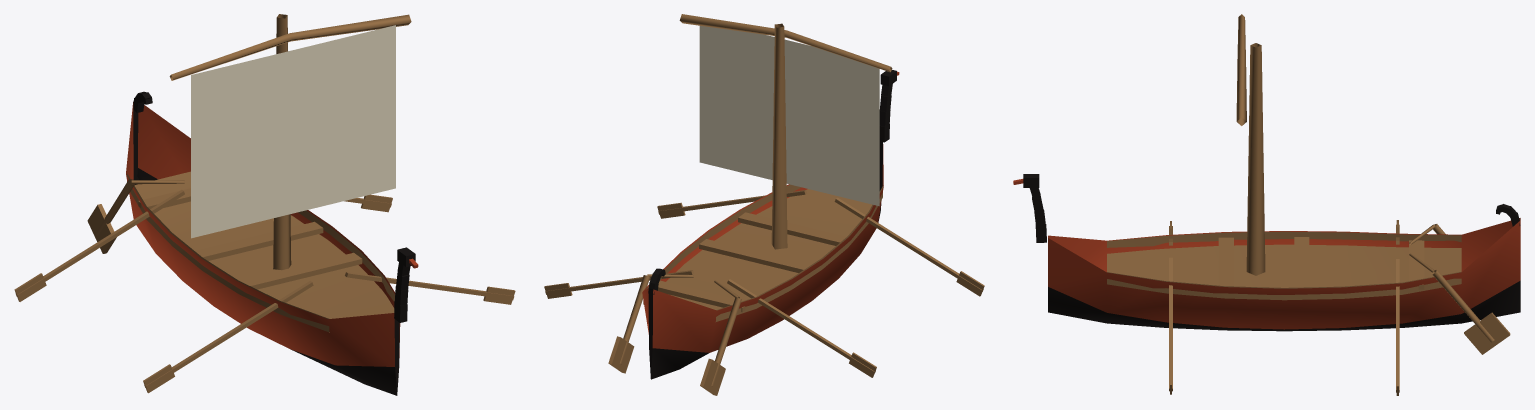
Rendered from ship_cutter_blockout_LOD2.obj.
3 renders of one model, left to right at view 1: azimuth 30°, elevation 25°; view 2: azimuth 150°, elevation 25°; view 3: azimuth 270°, elevation 25°, orthographic. The views are drawn at different scales.
Visible parts, largest first — view 1: ship_cutter_blockout_LOD2; view 2: ship_cutter_blockout_LOD2; view 3: ship_cutter_blockout_LOD2.
Part boxes in pixels (left/top/right/bottom): ship_cutter_blockout_LOD2: left=14, top=14, right=515, bottom=395; ship_cutter_blockout_LOD2: left=544, top=14, right=984, bottom=395; ship_cutter_blockout_LOD2: left=1013, top=14, right=1520, bottom=395.
Size of the model in its own units: 9.29 by 7.44 by 11.97.
